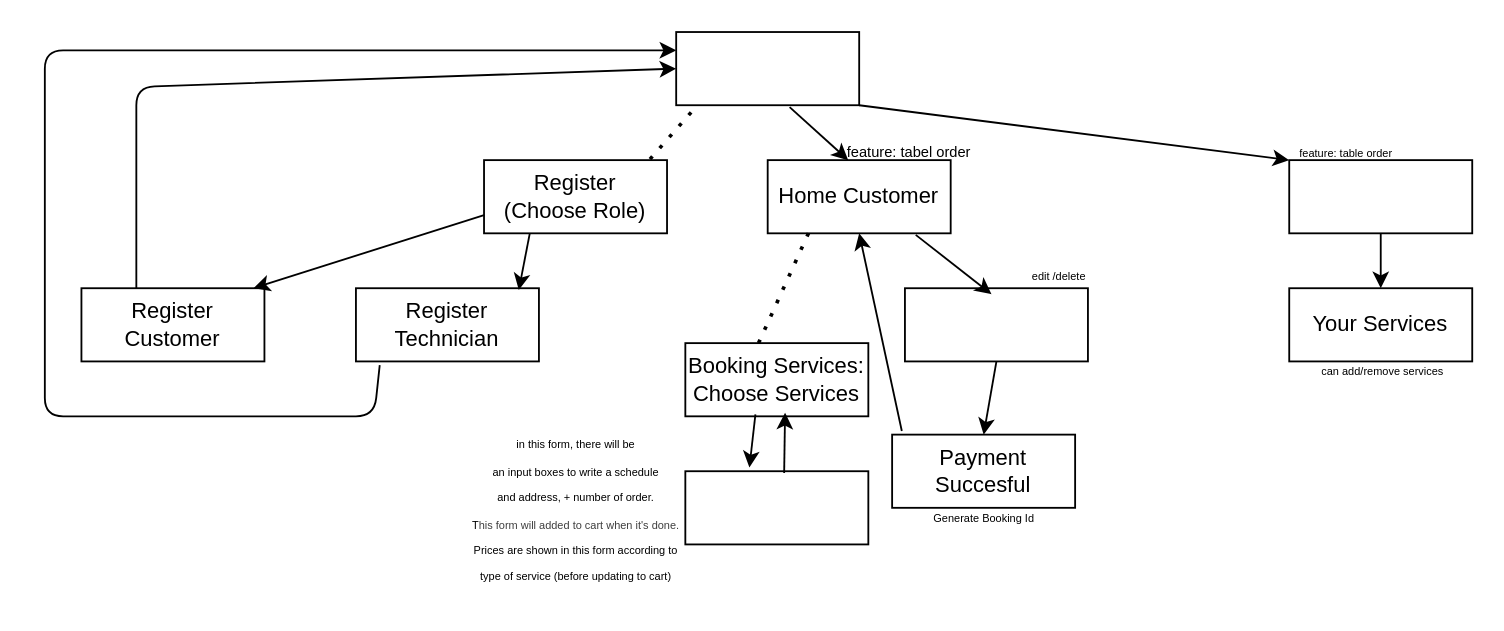
The diagram is 1504 pixels wide and 631 high, and some of its shapes have lost their labels. The shapes that lost their labels are listed below. From the top down, each one's box as (x1, y1, x2, y2) in pixels, then its label:
(674, 30, 859, 105): Welcome Page (Login)
(1287, 158, 1472, 233): Home Technician
(903, 286, 1088, 361): Cart
(684, 469, 868, 544): Form for Booking Services
